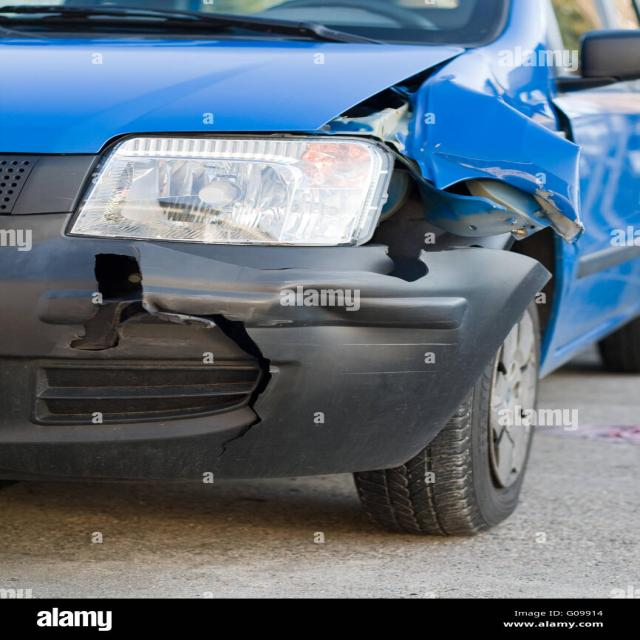crush: (18, 61, 617, 456)
